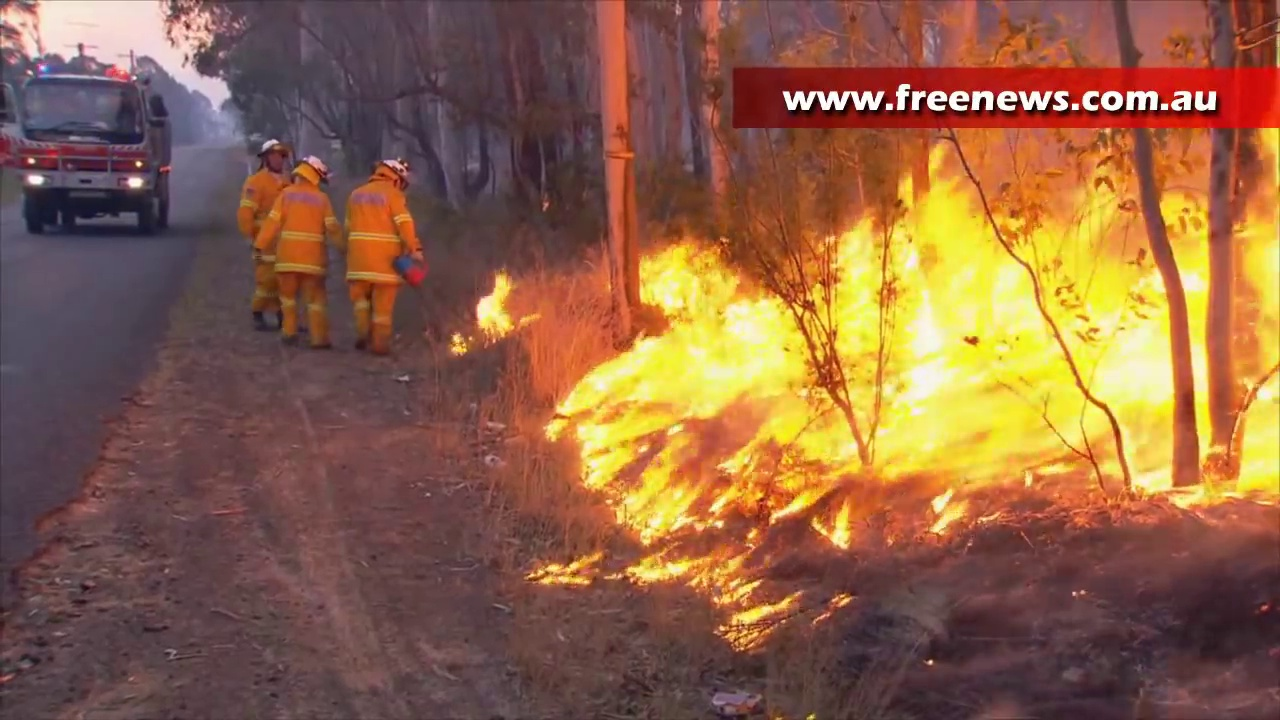fire: (548, 149, 1277, 538), (636, 549, 802, 647), (476, 274, 517, 339)
